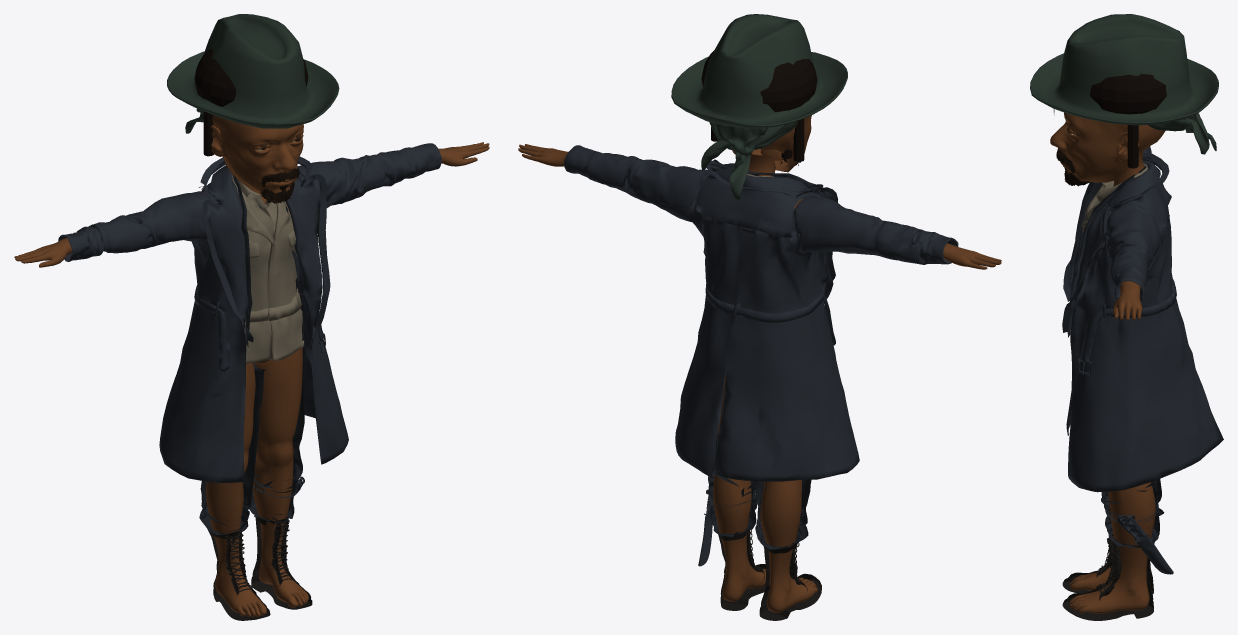
File: Smoke-bust.glb
3 renders of one model, left to right at view 1: azimuth 30°, elevation 25°; view 2: azimuth 150°, elevation 25°; view 3: azimuth 270°, elevation 25°, orthographic.
Visible parts, largest first — view 1: Smoke jacket, Smoke body, Smoke hat, Smoke shirt, Smoke head, Smoke shoes, Smoke pants, Smoke jacket trim, Smoke hair, Smoke jacket belt, Smoke beard; view 2: Smoke jacket, Smoke hat, Smoke body, Smoke hat bandana, Smoke shoes, Smoke hair, Smoke pants, Smoke head, Smoke jacket trim, Smoke accessory; view 3: Smoke jacket, Smoke hat, Smoke body, Smoke head, Smoke hair, Smoke shoes, Smoke jacket trim, Smoke accessory, Smoke hat bandana, Smoke pants, Smoke jacket belt, Smoke shirt (+2 smaller).
Part boxes in pixels (bbox=[...]): Smoke jacket: bbox=[58, 143, 441, 483]; Smoke body: bbox=[14, 142, 489, 616]; Smoke hat: bbox=[167, 14, 339, 128]; Smoke shirt: bbox=[232, 174, 303, 363]; Smoke head: bbox=[211, 115, 303, 193]; Smoke shoes: bbox=[207, 509, 312, 620]; Smoke pants: bbox=[199, 325, 306, 536]; Smoke jacket trim: bbox=[199, 156, 330, 346]; Smoke hair: bbox=[194, 48, 308, 106]; Smoke jacket belt: bbox=[201, 163, 323, 337]; Smoke beard: bbox=[260, 168, 299, 203]; Smoke jacket: bbox=[564, 145, 958, 481]; Smoke hat: bbox=[671, 14, 847, 128]; Smoke body: bbox=[518, 144, 1001, 612]; Smoke hat bandana: bbox=[701, 121, 797, 199]; Smoke shoes: bbox=[717, 518, 821, 620]; Smoke hair: bbox=[701, 51, 817, 112]; Smoke pants: bbox=[708, 433, 811, 549]; Smoke head: bbox=[732, 115, 811, 172]; Smoke jacket trim: bbox=[706, 159, 837, 303]; Smoke accessory: bbox=[698, 487, 756, 566]; Smoke jacket: bbox=[1066, 146, 1223, 492]; Smoke hat: bbox=[1030, 14, 1218, 125]; Smoke body: bbox=[1069, 151, 1155, 613]; Smoke head: bbox=[1050, 112, 1165, 182]; Smoke hair: bbox=[1090, 73, 1166, 114]; Smoke shoes: bbox=[1062, 534, 1154, 620]; Smoke jacket trim: bbox=[1062, 153, 1169, 337]; Smoke accessory: bbox=[1105, 501, 1173, 574]; Smoke hat bandana: bbox=[1148, 113, 1216, 154]; Smoke pants: bbox=[1101, 479, 1164, 547]; Smoke jacket belt: bbox=[1069, 159, 1162, 330]; Smoke shirt: bbox=[1082, 163, 1147, 232].
Bounding box in the file's own units: 1.88 × 2.17 × 0.6575.
